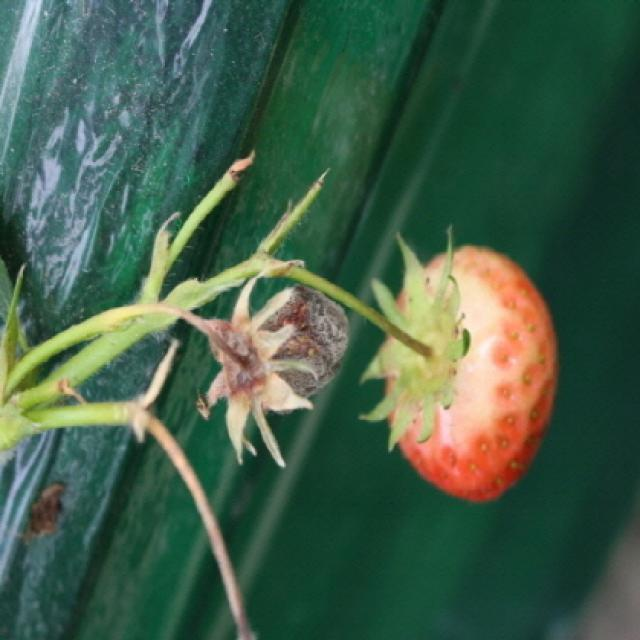Gray Mold: (189, 259, 352, 470)
